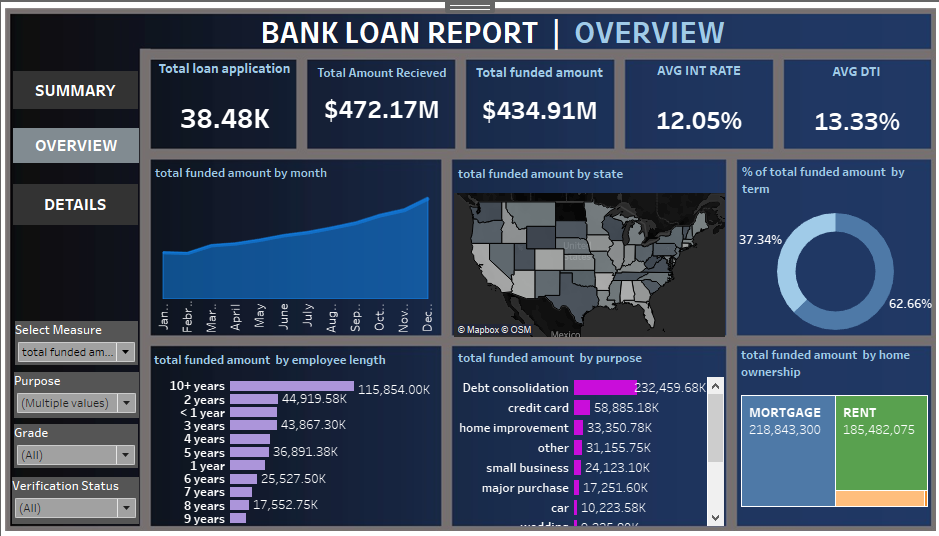

The page's visual inventory and layout, read from the dashboard file:
{"tool":"tableau","page":{"name":"OVERVIEW","canvas":[955,552],"ordinal":1},"visuals":[{"type":"image","param":"Image/Tableau Background 2.jpg","box":[8,8,939,536]},{"type":"text","box":[243,18,514,38]},{"type":"worksheet","title":"total loan application","mark":"Automatic","box":[158,61,147,91]},{"type":"worksheet","title":"avg int rate","mark":"Automatic","box":[631,63,150,91]},{"type":"worksheet","title":"avg dti","mark":"Automatic","box":[788,64,151,91]},{"type":"worksheet","title":"total funded amount","mark":"Automatic","box":[472,65,149,86]},{"type":"worksheet","title":"total amount received","mark":"Automatic","box":[316,66,146,86]},{"type":"dashboard-object","box":[20,77,125,38]},{"type":"dashboard-object","box":[20,134,126,35]},{"type":"worksheet","title":"term","mark":"Pie","rows":["Calculation_782500501941624833","Calculation_782500501941633027"],"box":[745,165,195,176]},{"type":"worksheet","title":"MONTH","mark":"Automatic","rows":["Calculation_632474338835578885","Calculation_632474338835578885"],"cols":["issue_date"],"box":[158,166,289,175]},{"type":"worksheet","title":"state","mark":"Multipolygon","box":[461,167,271,176]},{"type":"dashboard-object","box":[20,190,125,41]},{"type":"parameter","param":"[Parameters].[Parameter 1]","box":[22,327,123,44]},{"type":"worksheet","title":"home owner","mark":"Automatic","box":[744,348,194,184]},{"type":"worksheet","title":"pupose","mark":"Automatic","rows":["purpose"],"cols":["Calculation_632474338835578885"],"box":[461,351,270,181]},{"type":"worksheet","title":"emp length","mark":"Automatic","rows":["emp_length"],"cols":["Calculation_632474338835578885"],"box":[157,353,290,178]},{"type":"filter","title":"avg dti","param":"[federated.10diuef1himh9211tbt730qda17m].[none:purpose:nk]","box":[21,378,125,46]},{"type":"filter","title":"avg dti","param":"[federated.10diuef1himh9211tbt730qda17m].[none:grade:nk]","box":[21,430,124,44]},{"type":"filter","title":"avg dti","param":"[federated.10diuef1himh9211tbt730qda17m].[none:verification_status:nk]","box":[19,483,127,47]}]}

Visuals, with their boxes in screenshot pixels (x1, y1, x2, y2), scaled from the page's 955x552 canvas onto the 939x536 screenshot:
image: (8,8,931,528)
text: (239,17,744,54)
"total loan application" worksheet: (155,59,300,148)
"avg int rate" worksheet: (620,61,768,150)
"avg dti" worksheet: (775,62,923,151)
"total funded amount" worksheet: (464,63,611,147)
"total amount received" worksheet: (311,64,454,148)
dashboard-object: (20,75,143,112)
dashboard-object: (20,130,144,164)
"term" worksheet (Pie marks): (733,160,924,331)
"MONTH" worksheet: (155,161,440,331)
"state" worksheet (Multipolygon marks): (453,162,720,333)
dashboard-object: (20,184,143,224)
parameter: (22,318,143,360)
"home owner" worksheet: (732,338,922,517)
"pupose" worksheet: (453,341,719,517)
"emp length" worksheet: (154,343,440,516)
"avg dti" filter: (21,367,144,412)
"avg dti" filter: (21,418,143,460)
"avg dti" filter: (19,469,144,515)
